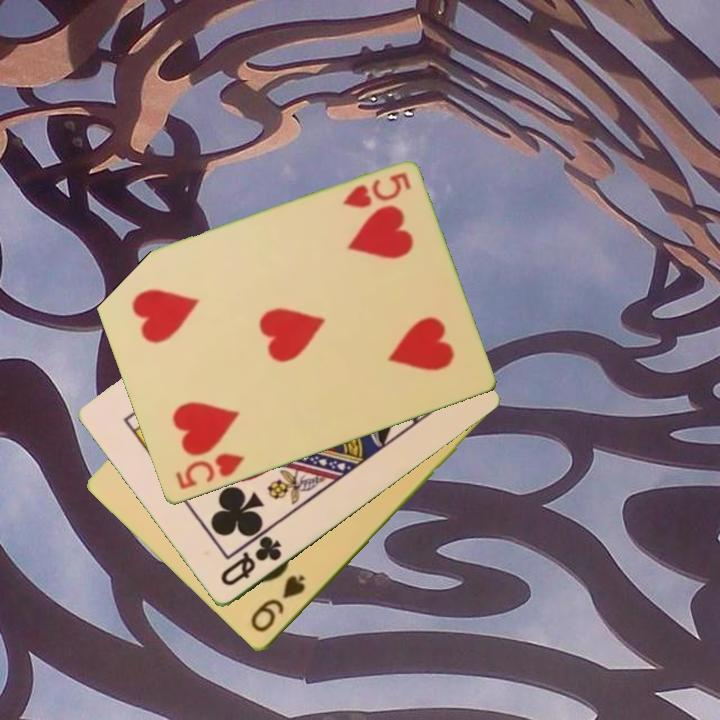5h: (171, 450, 247, 493), (339, 169, 414, 212)
9s: (247, 571, 309, 636)
Qc: (217, 532, 285, 590)
